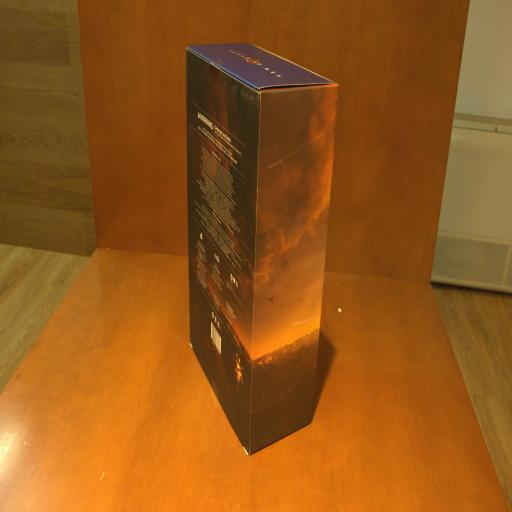superman: (187, 42, 340, 454)
